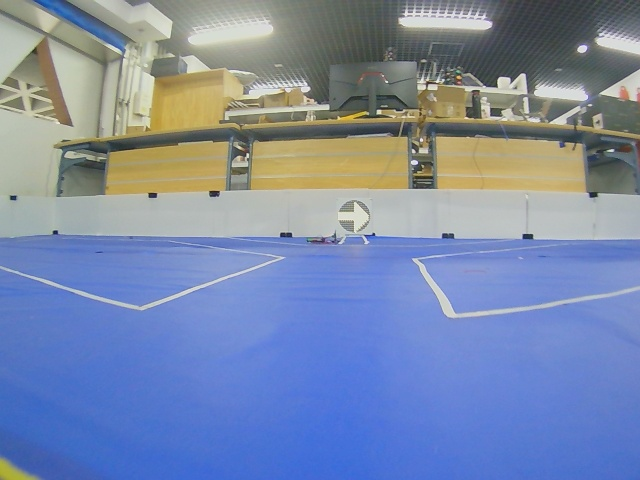right_yellow: (338, 200, 371, 235)
